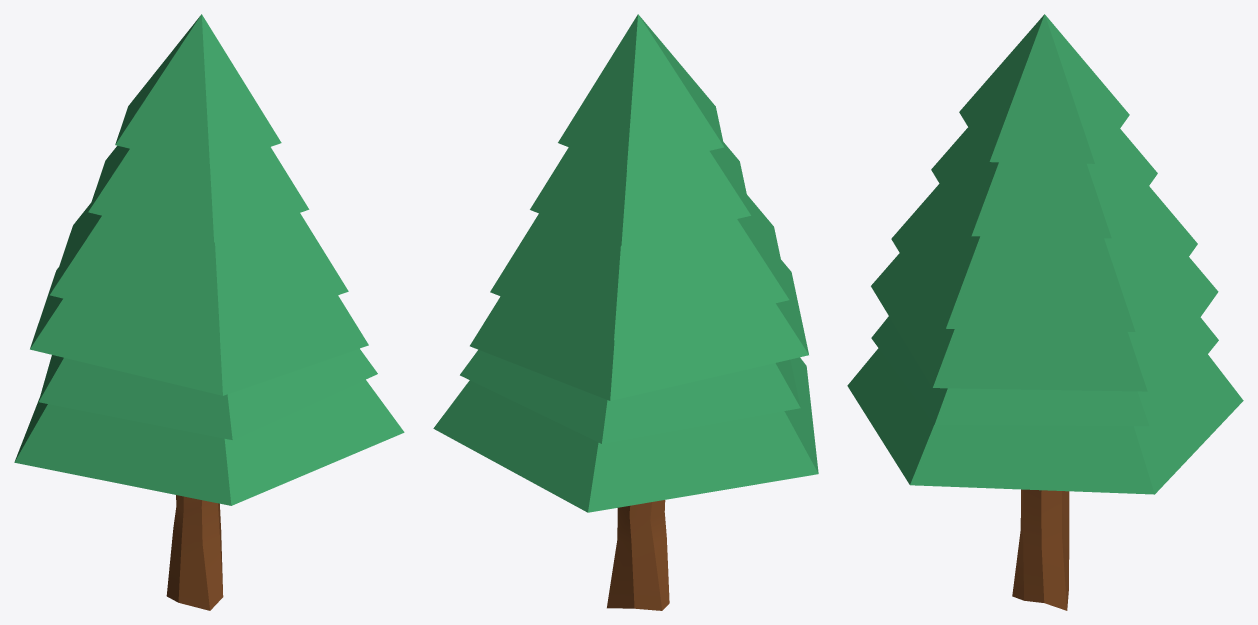
Rendered from Pine tree.fbx.
The picture shows the model from 3 angles, left to right: view 1: azimuth 30°, elevation 25°; view 2: azimuth 150°, elevation 25°; view 3: azimuth 270°, elevation 25°; orthographic projection.
Parts seen in each view (by area): view 1: pCone7; view 2: pCone7; view 3: pCone7.
Boxes of the visible parts, x1,y1,x2,y2 form: pCone7: (14,14,404,610); pCone7: (433,14,818,610); pCone7: (847,14,1243,610).
Bounding box in the file's own units: 1.26 × 2.13 × 1.3.
